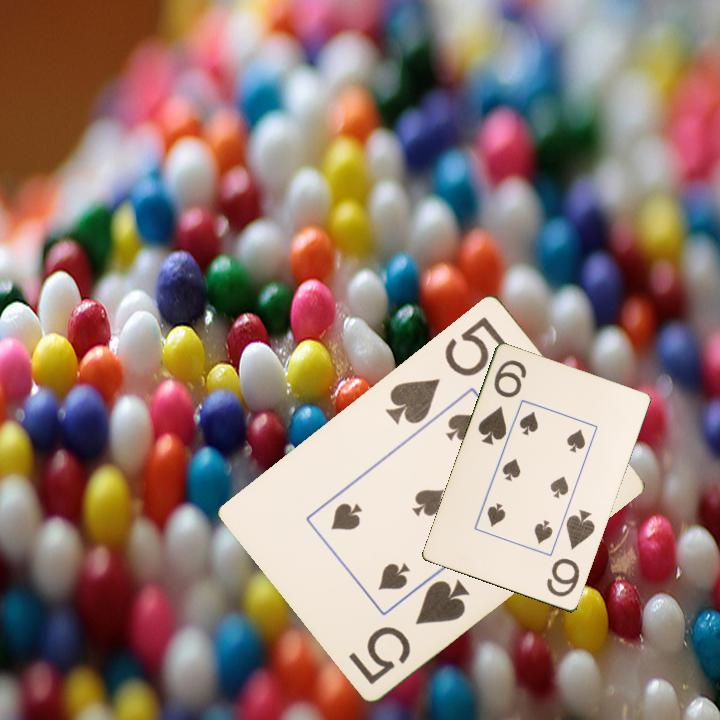5s: (381, 312, 511, 427), (345, 575, 473, 687)
6s: (474, 356, 530, 449), (543, 506, 598, 600)
